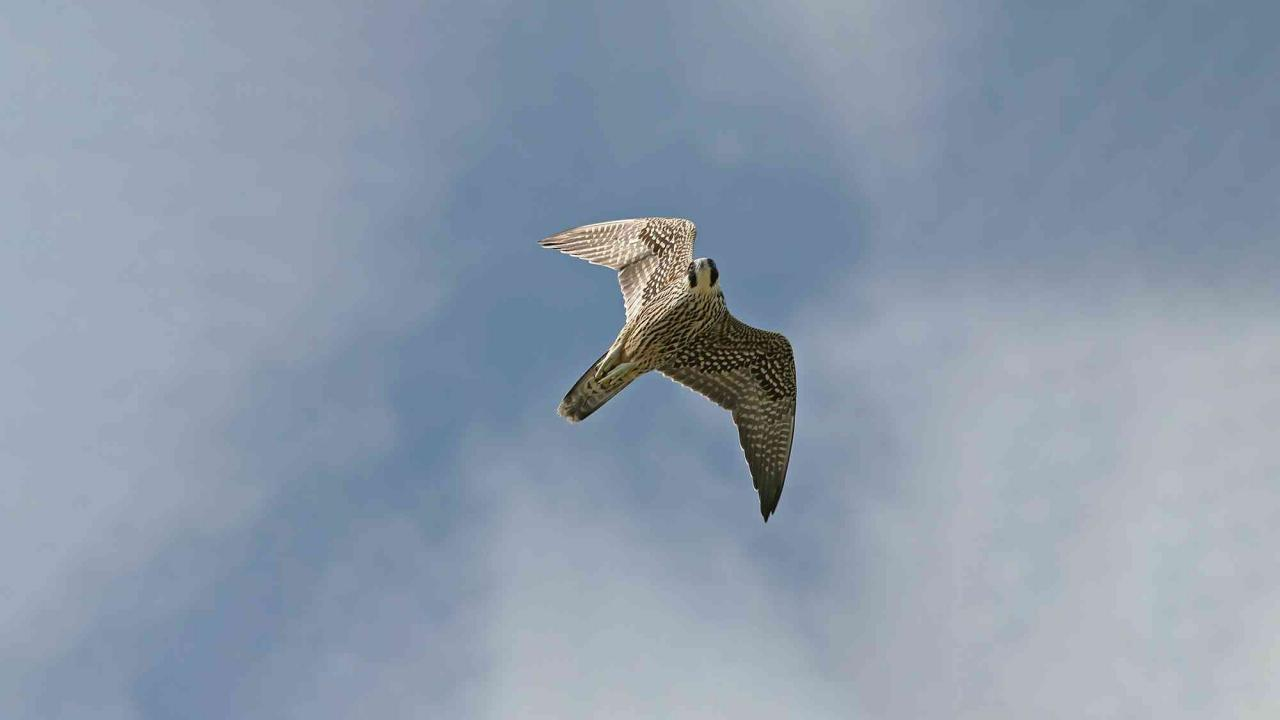Bird: (526, 200, 808, 537)
